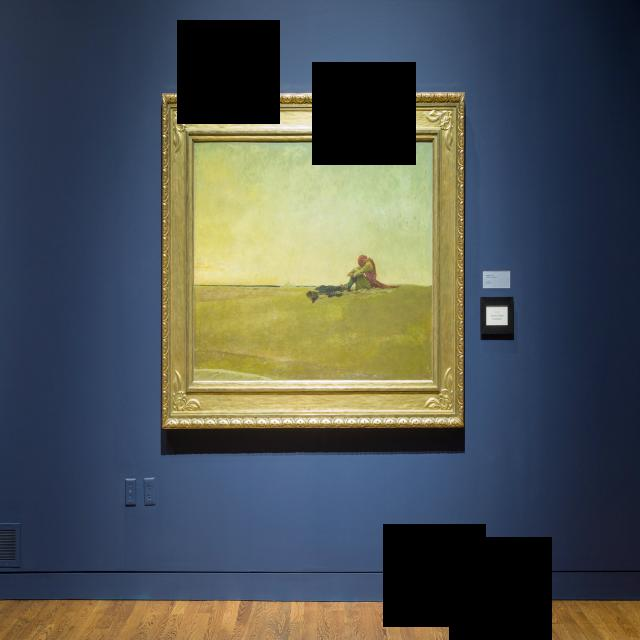Tablo: (192, 139, 433, 382)
